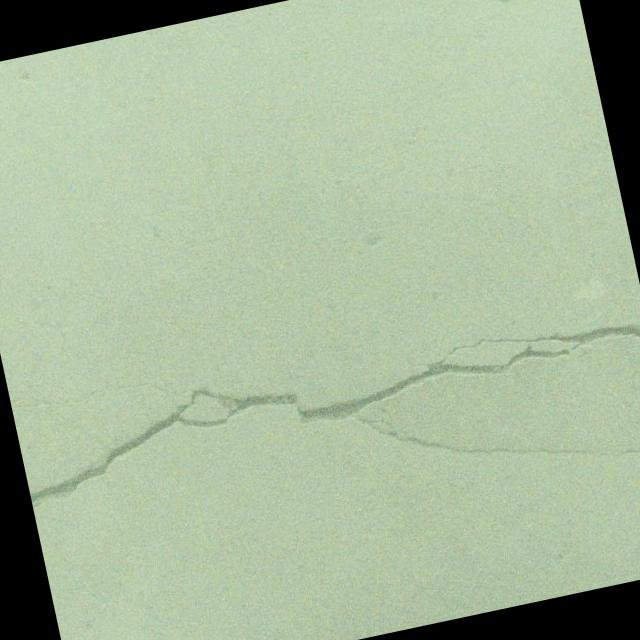crack: (7, 255, 640, 592), (415, 120, 612, 195), (205, 252, 308, 358)
